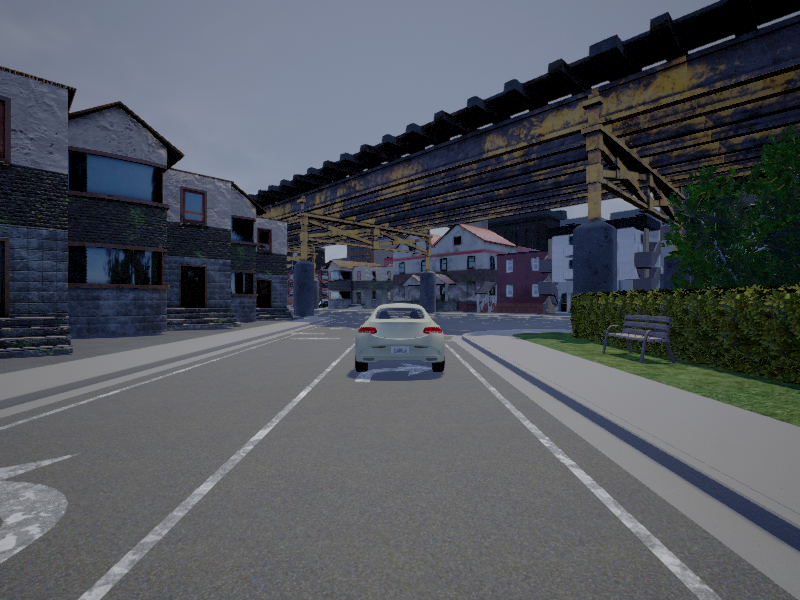Benign: (356, 303, 447, 376)
